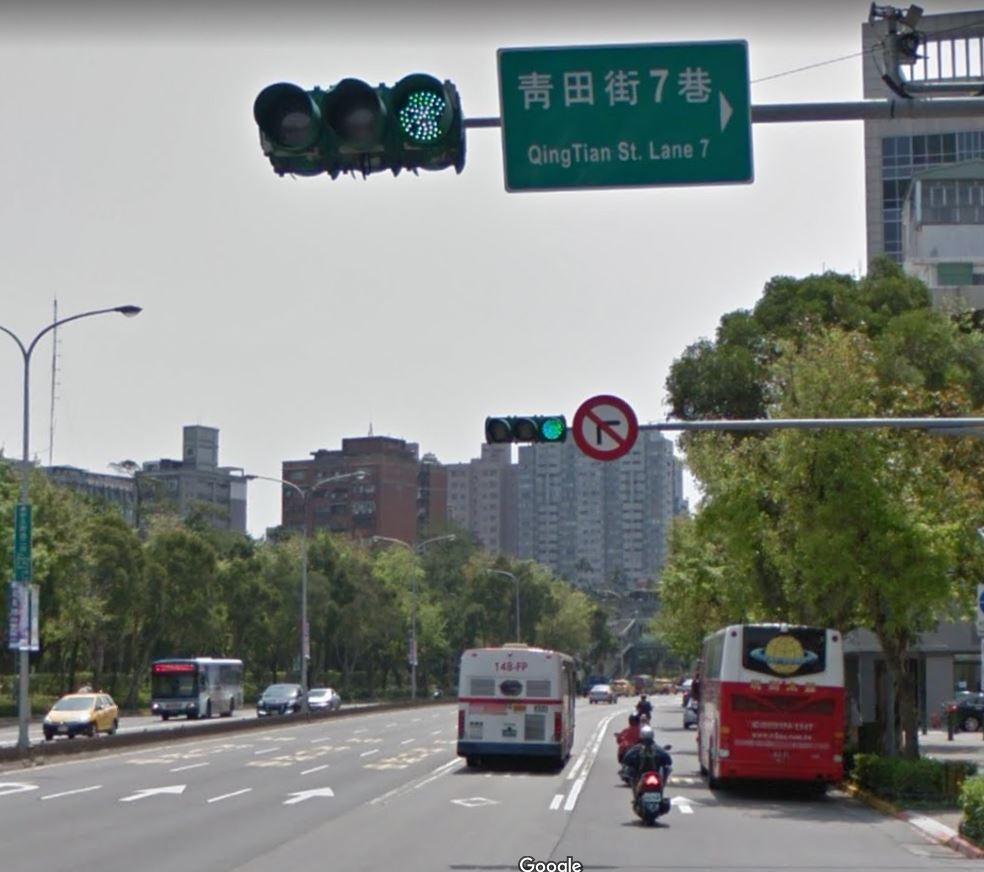Traffic_light_green: (250, 74, 468, 182), (485, 413, 572, 445)
motorcycle: (631, 755, 673, 821)
